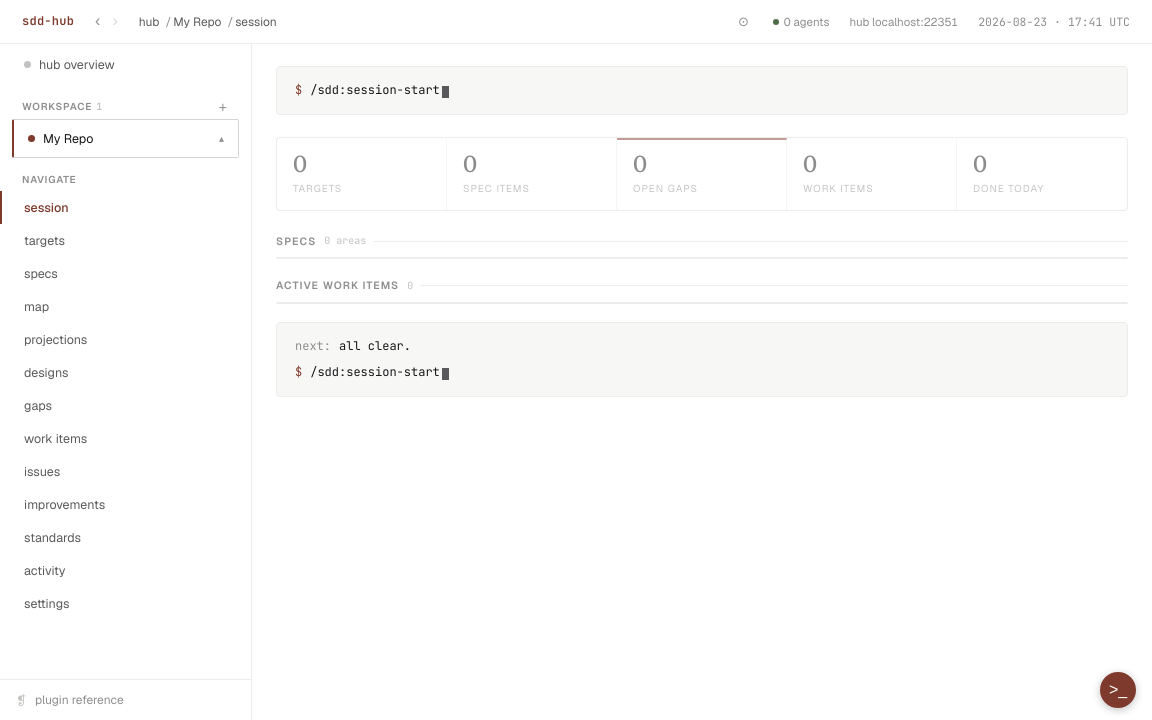
Test case: SPEC-ui-007 — workspace selector dropdown › SPEC-ui-007: clicking a workspace row selects it and closes the panel
What coordinates should you click on to do the following:
click the button with class "sidenav-ws-trigger"
I would click on:
 (126, 138)
Its box is 12,118 -> 239,158.
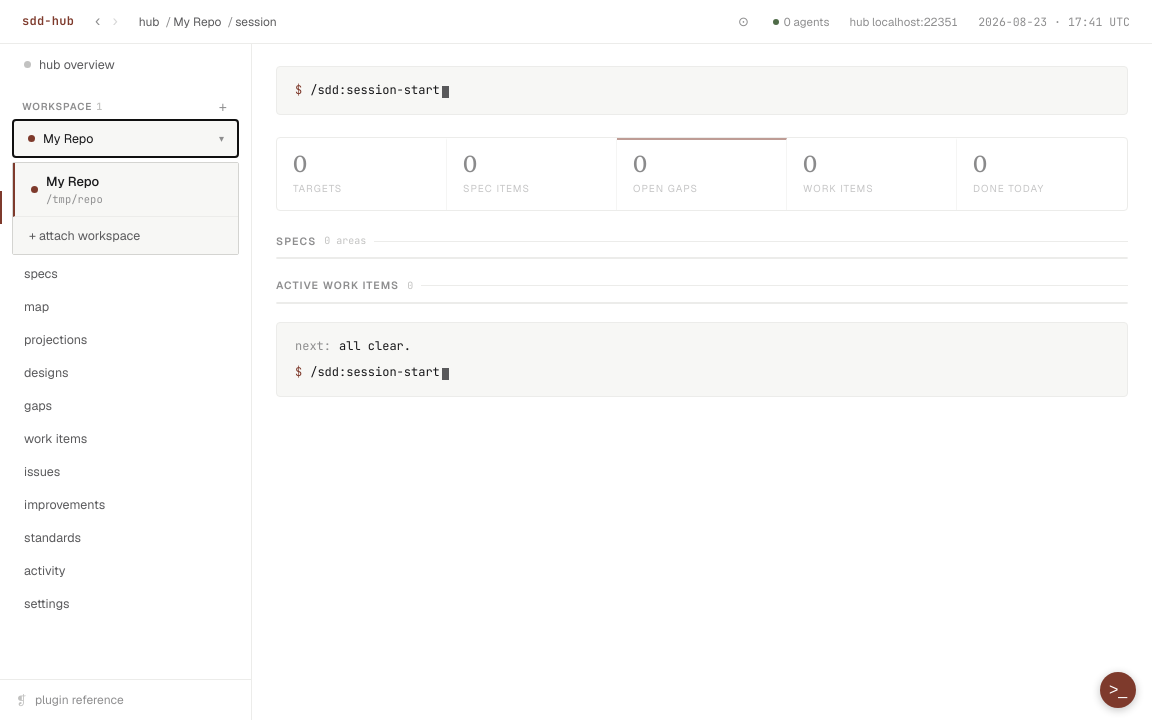
What coordinates should you click on to do the following:
click the button with class "sidenav-ws-panel-row"
I would click on:
 (126, 190)
Its box is 13,162 -> 238,216.
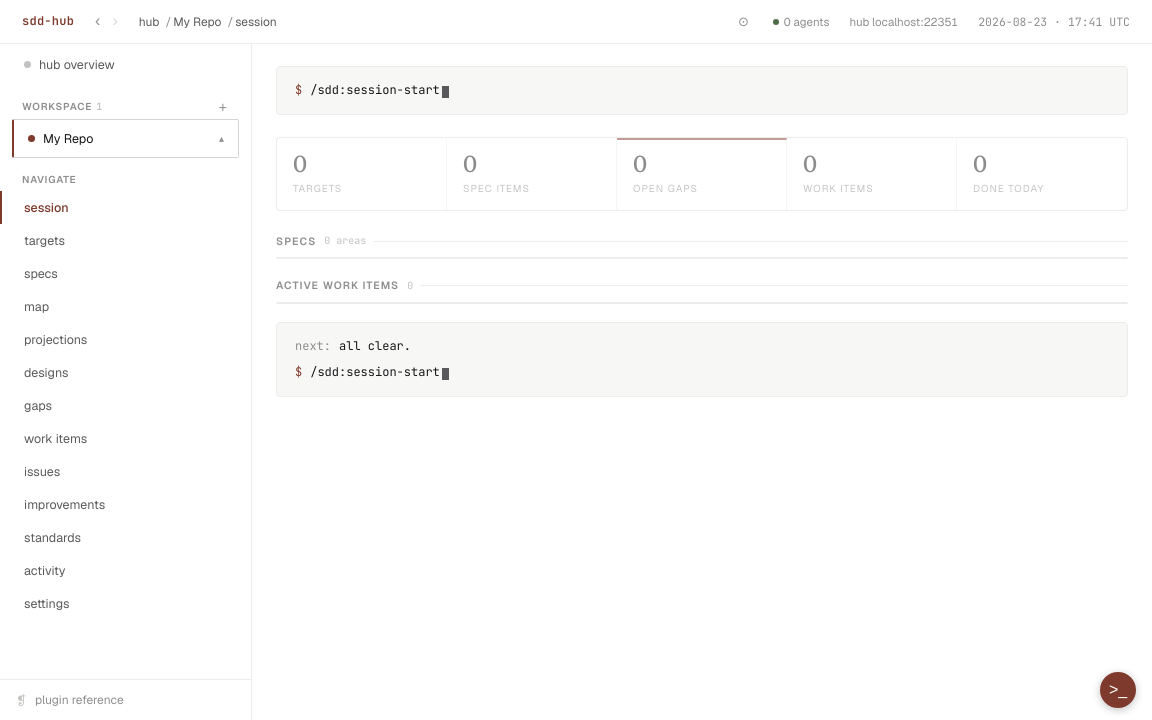
Check: the element with class "sidenav-ws-panel" is gone
